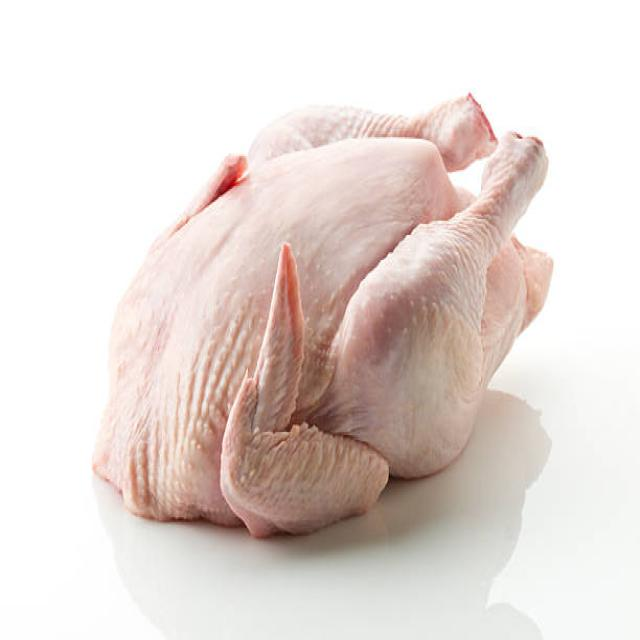Chicken: (68, 79, 569, 549)
